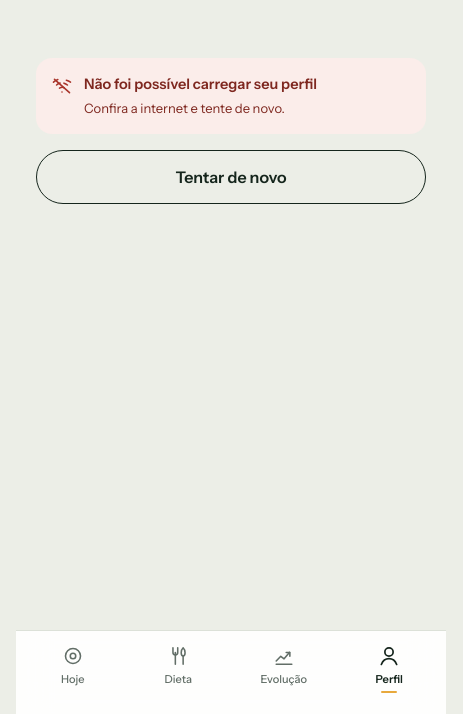
Perfil (S17) › se não carregar, mostra o erro e tenta de novo
Click the button "Tentar de novo".
click(231, 177)  # box top-left (36, 150), bottom-right (426, 204)
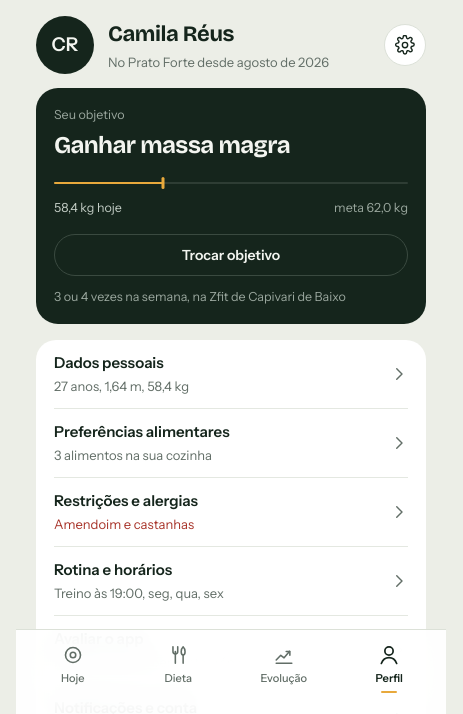
Result: the heading "Camila Réus" is shown at top-left (108, 21), bottom-right (234, 47)
